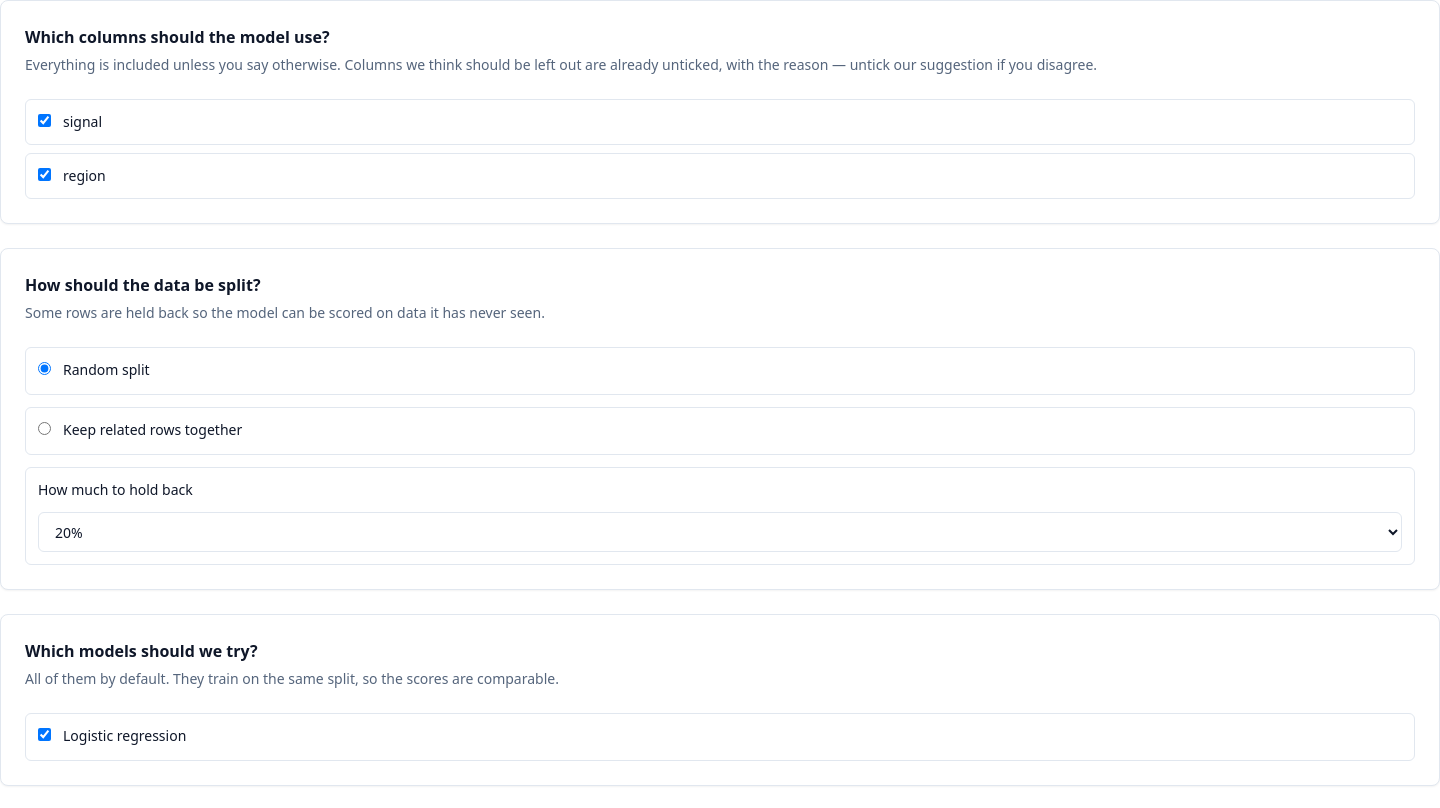
Test: ModelPlanForm — a group key of several columns (#22) › says every column in the key stops being an input, and what the combination means
This screenshot has width=1440, height=808.
Click the radio button labelled "Keep related rows together" at (44, 428), box [38, 422, 51, 435]
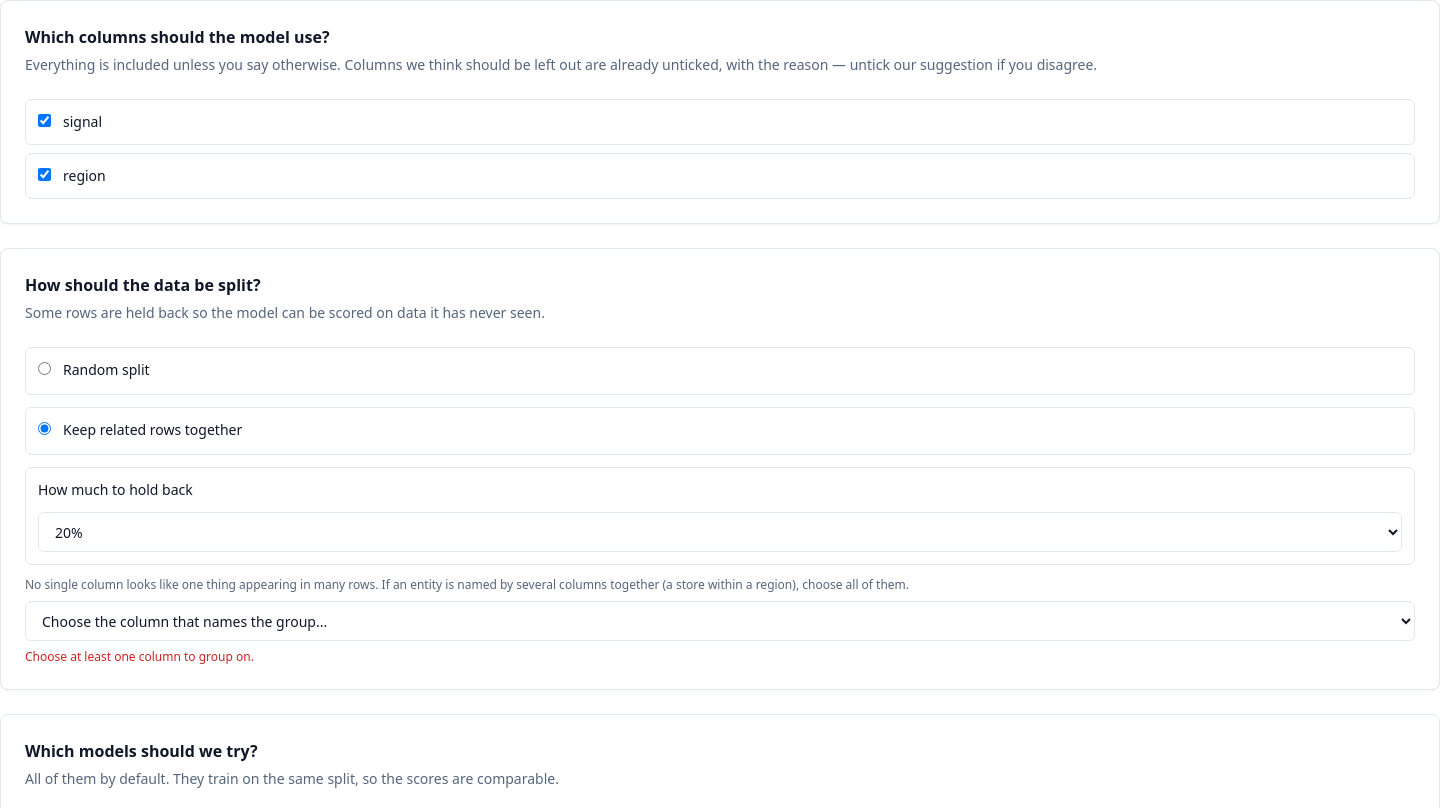
Select "store" in the dropdown named "Add a column to the group key" at (720, 621), box [25, 601, 1415, 641]
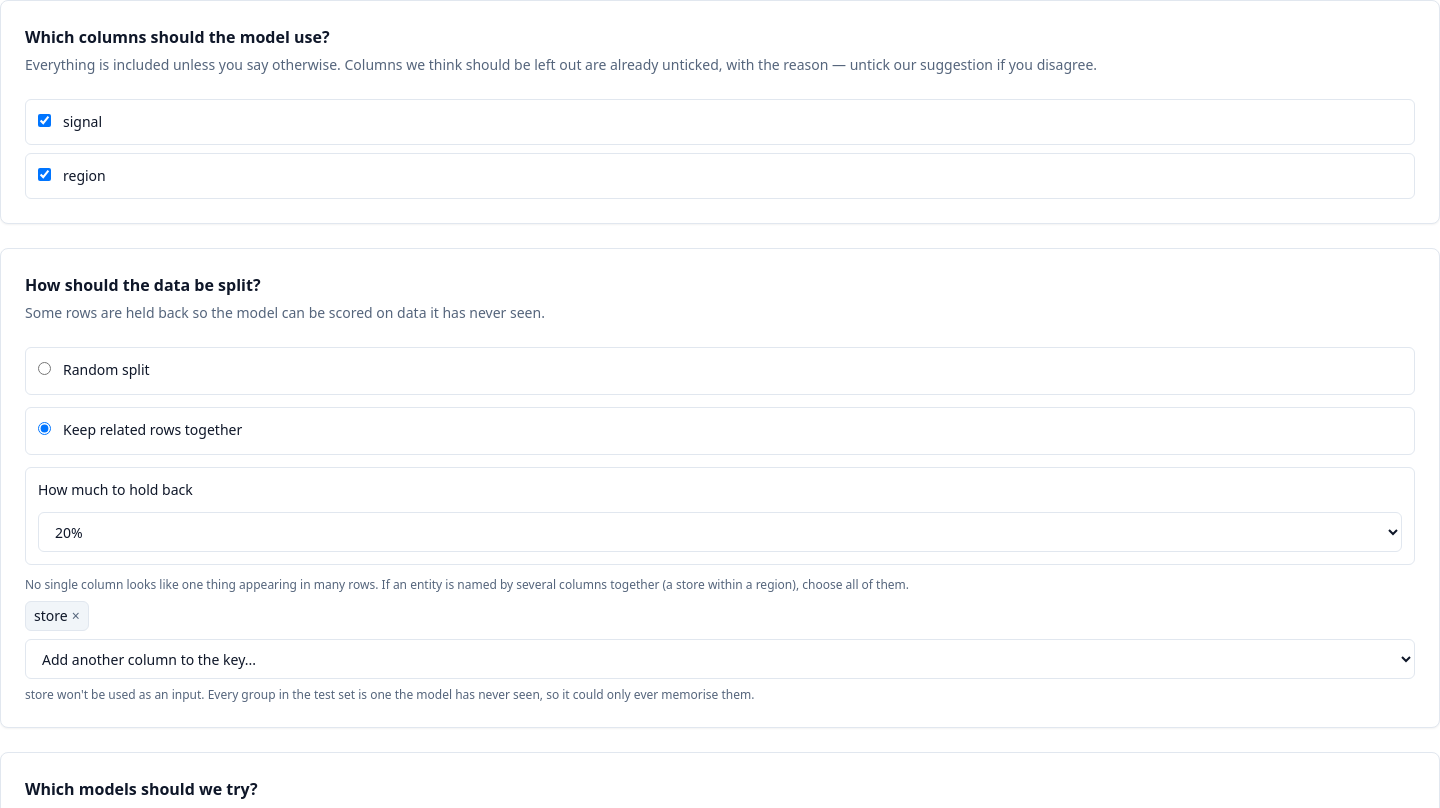
Select "region" in the dropdown named "Add a column to the group key" at (720, 659), box [25, 639, 1415, 679]
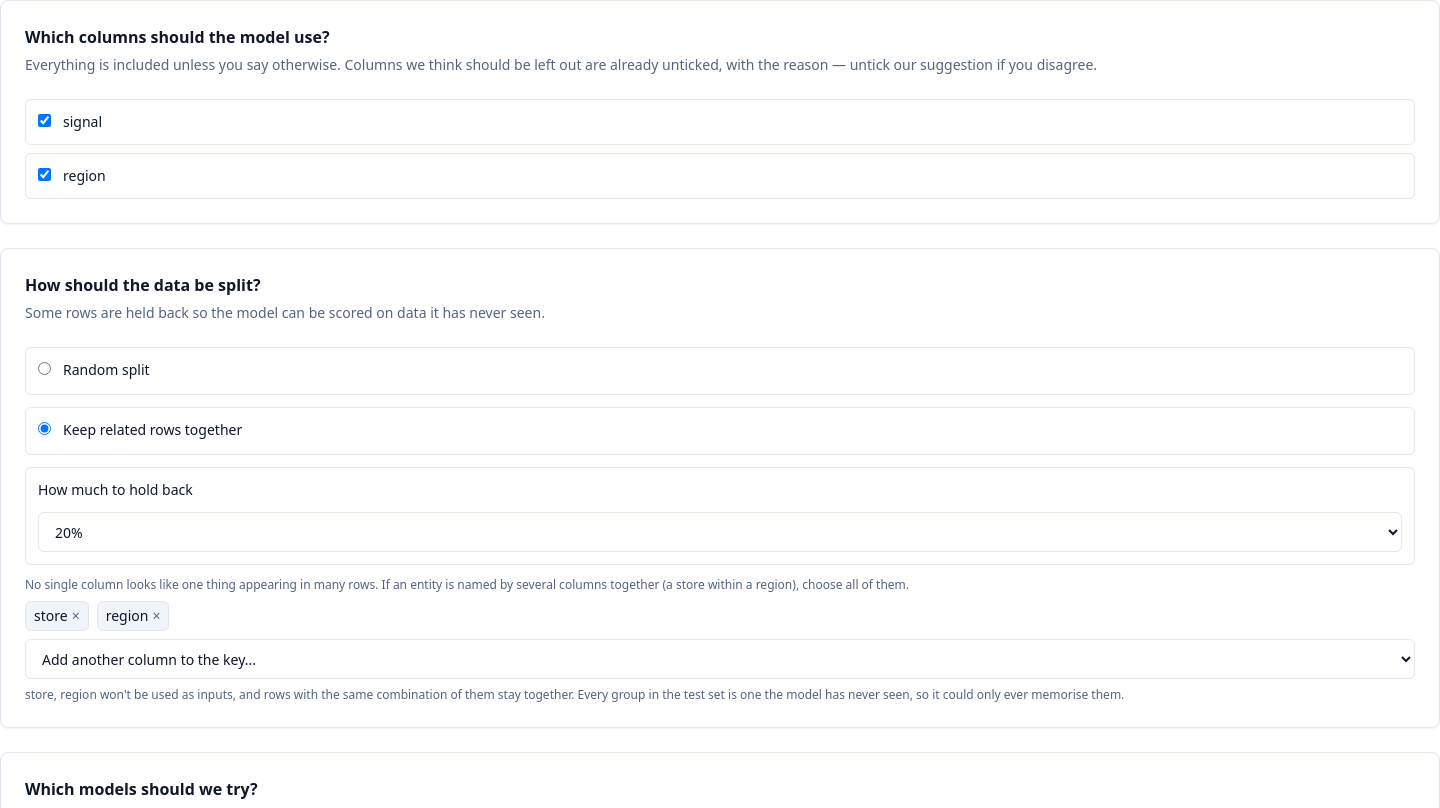
Check: the text "store, region won't be used as inputs, and rows with the same combination of them stay together" is shown, box [25, 686, 574, 703]
